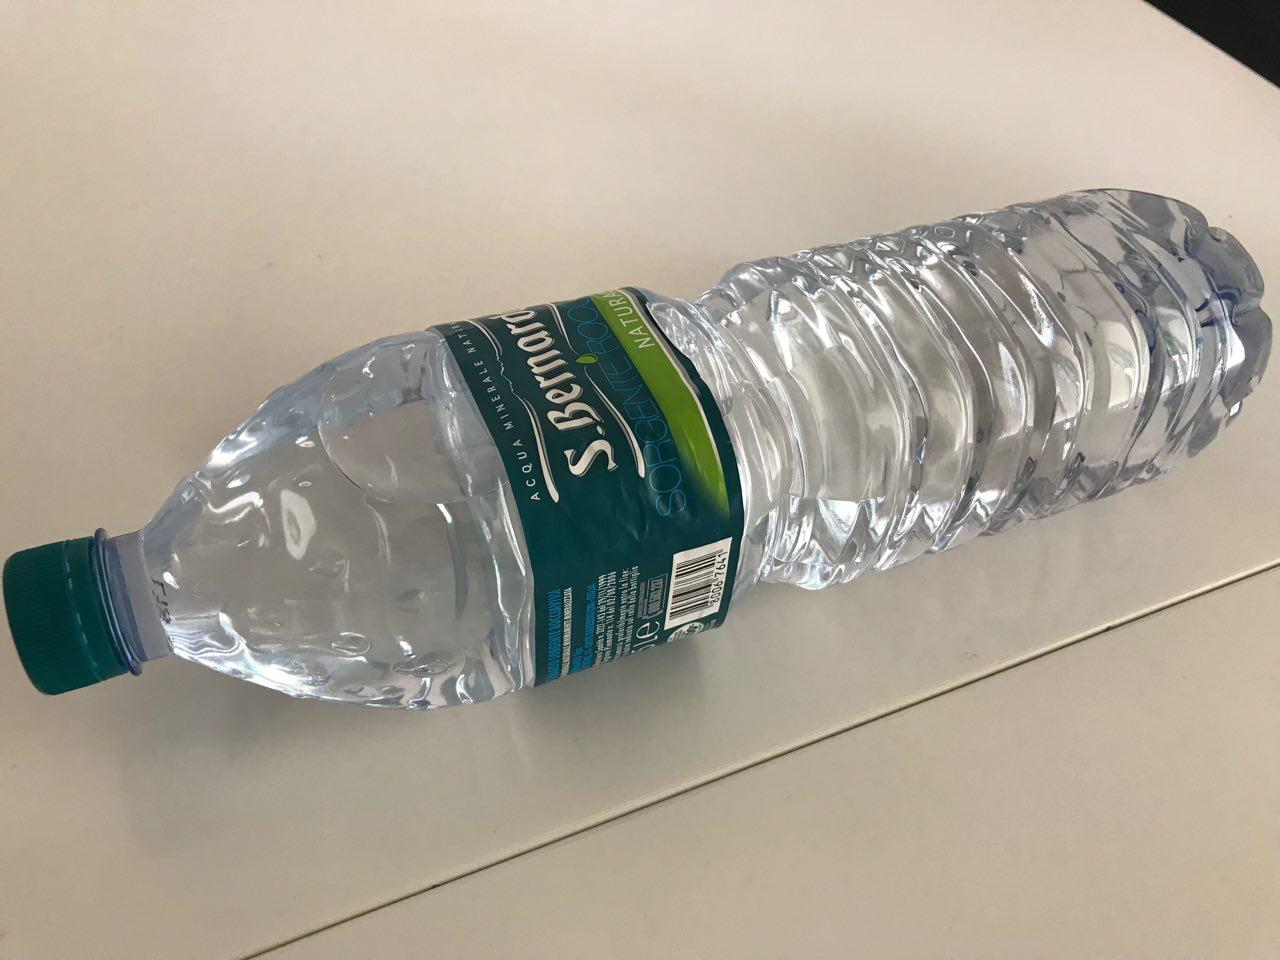san_bernardo: (1, 186, 1275, 712)
